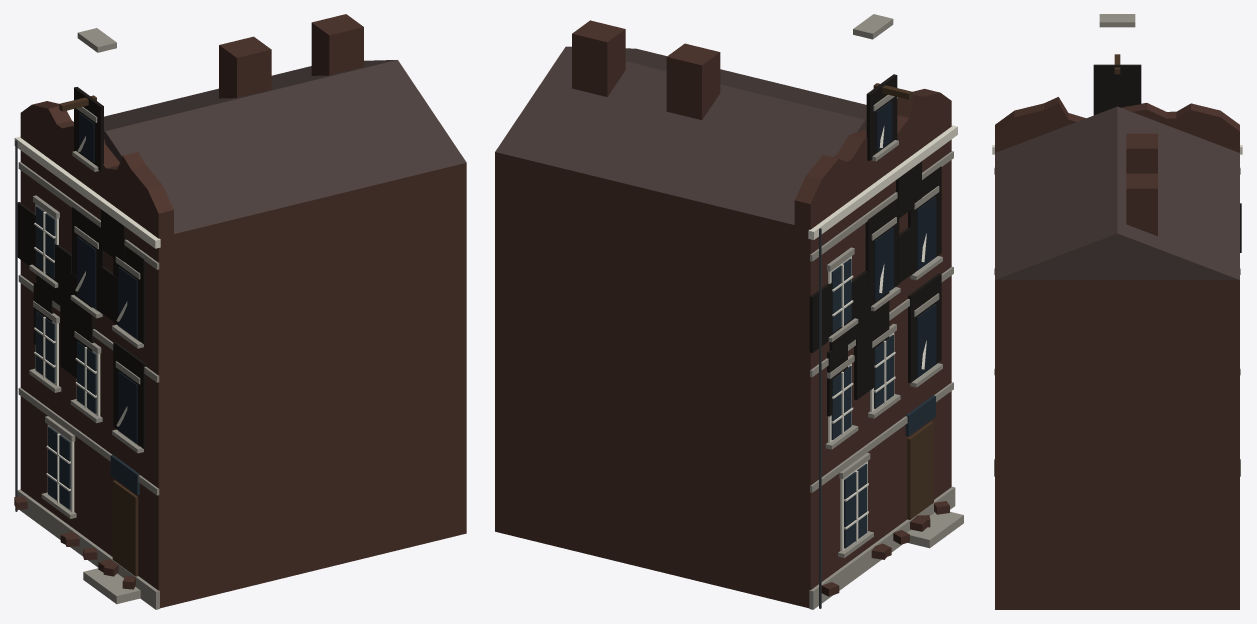
File: gevel_klok_schade.glb
3 views of the same model, side by side, from view 1: azimuth 30°, elevation 25°; view 2: azimuth 150°, elevation 25°; view 3: azimuth 270°, elevation 25° (orthographic). The views are drawn at different scales.
Visible parts, largest first — view 1: Gevel; view 2: Gevel; view 3: Gevel.
Boxes of the visible parts, <box> form: Gevel: <box>14,14,466,609</box>; Gevel: <box>495,14,963,609</box>; Gevel: <box>992,14,1242,609</box>.
Bounding box in the file's own units: 8.75 × 12.87 × 6.32.
